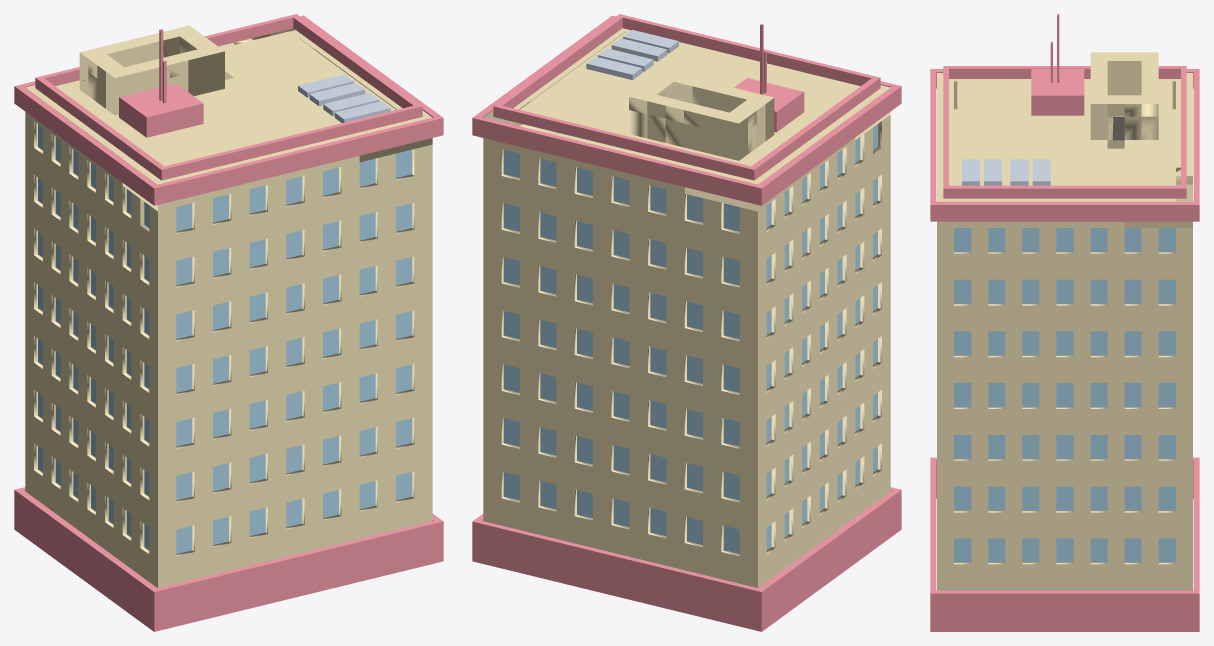
File: building3.1.glb
3 views of the same model, side by side, from view 1: azimuth 30°, elevation 25°; view 2: azimuth 150°, elevation 25°; view 3: azimuth 270°, elevation 25° (orthographic). The views are drawn at different scales.
Parts seen in each view (by area): view 1: Cube_116_10; view 2: Cube_116_10; view 3: Cube_116_10.
Part boxes in pixels (x1,y1,x2,y2): Cube_116_10: (14,14,443,631); Cube_116_10: (472,14,901,631); Cube_116_10: (930,14,1199,631).
Size of the model in its own units: 14.87 by 26.29 by 12.45.
